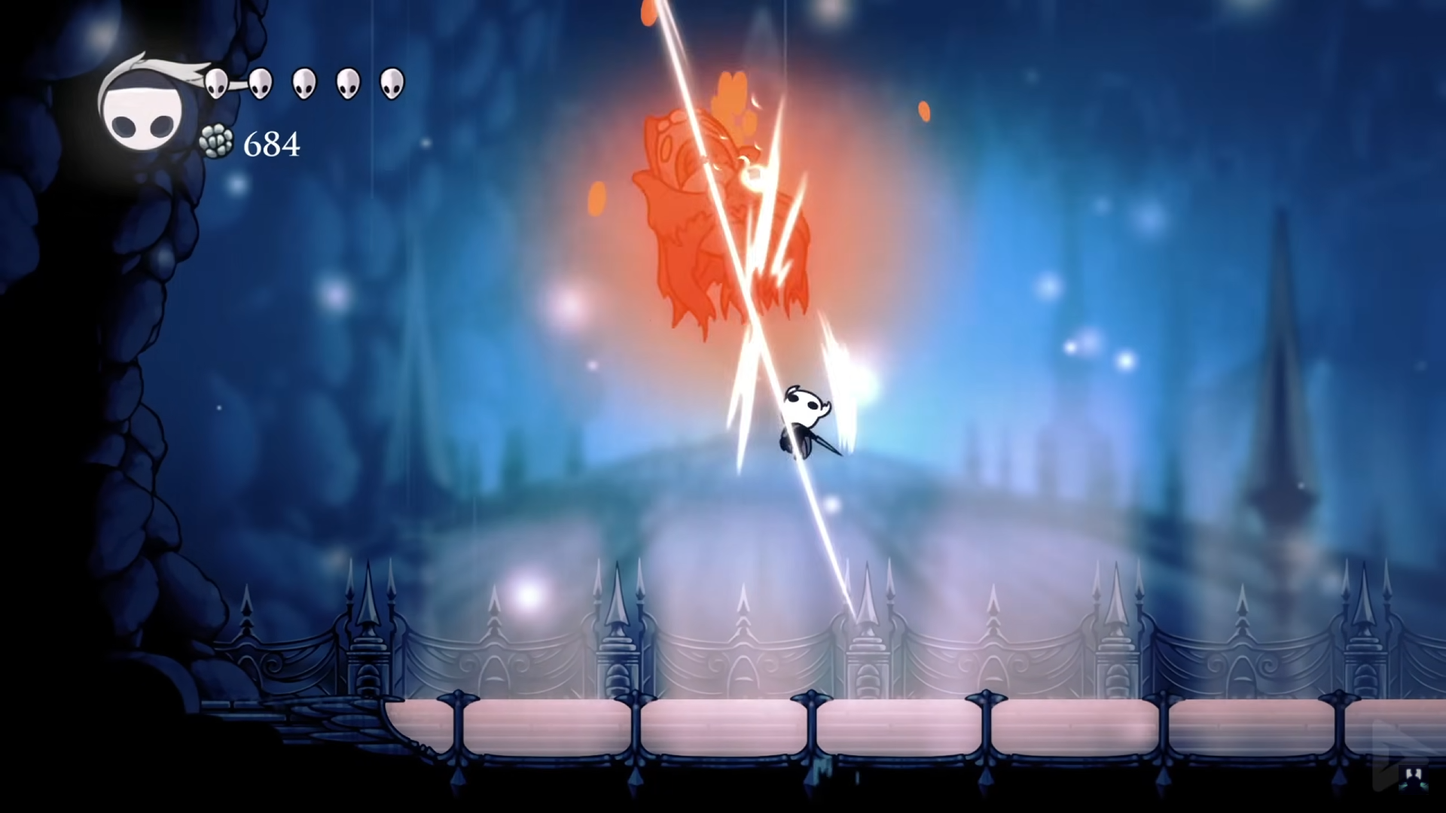HK: (766, 378, 840, 472)
